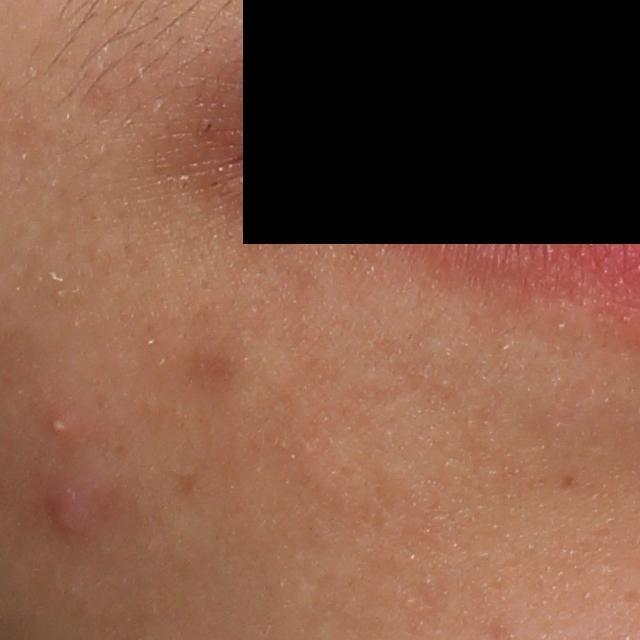papule: (45, 486, 91, 537)
pustule: (43, 409, 78, 441)
